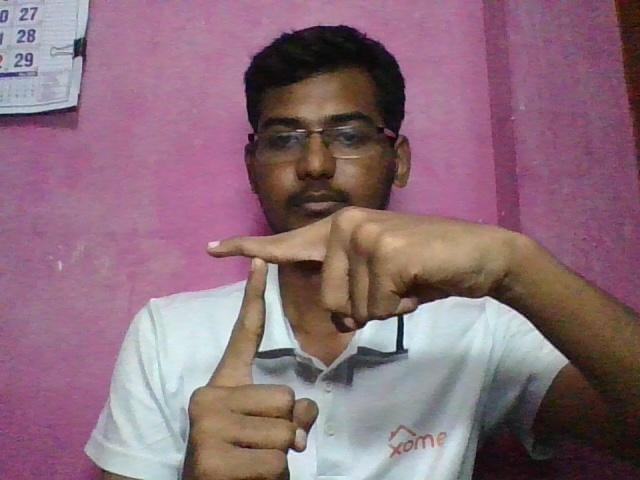Hello: (160, 196, 511, 480)
